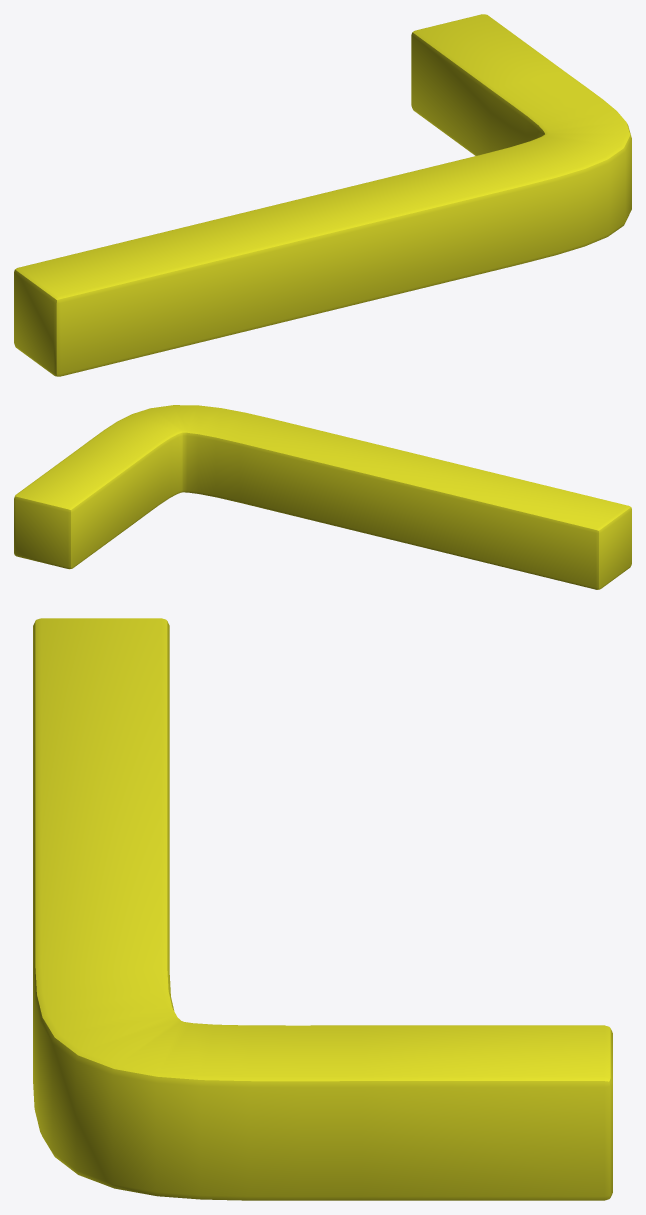
File: SM_comptoir_bar.fbx
3 views of the same model, one above another, from view 1: azimuth 30°, elevation 25°; view 2: azimuth 150°, elevation 25°; view 3: azimuth 270°, elevation 25° (orthographic). The views are drawn at different scales.
Parts seen in each view (by area): view 1: Cube.036; view 2: Cube.036; view 3: Cube.036.
Boxes of the visible parts, x1,y1,x2,y2 form: Cube.036: (14,14,631,376); Cube.036: (14,405,631,589); Cube.036: (33,618,612,1200).
Bounding box in the file's own units: 720 × 89.43 × 379.
